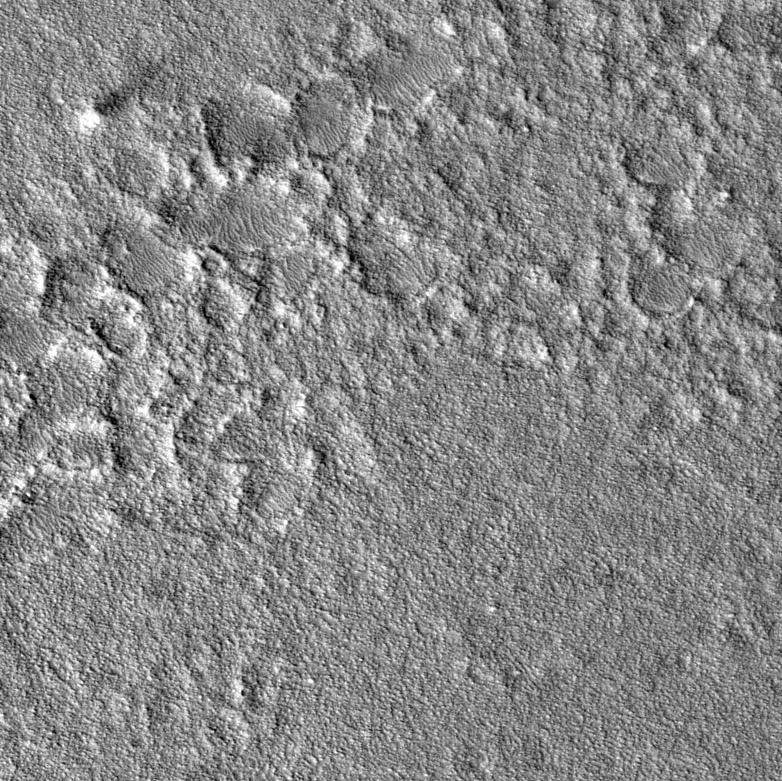dust_devil: (76, 59, 166, 138)
